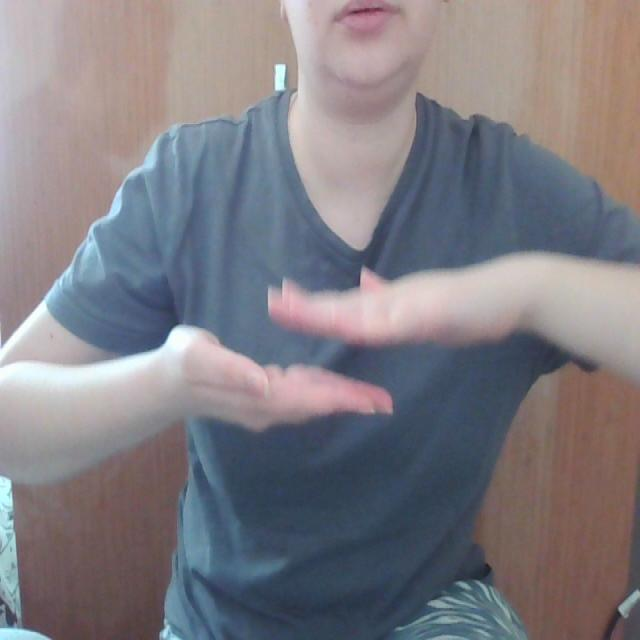Arkadas: (0, 248, 640, 440)
